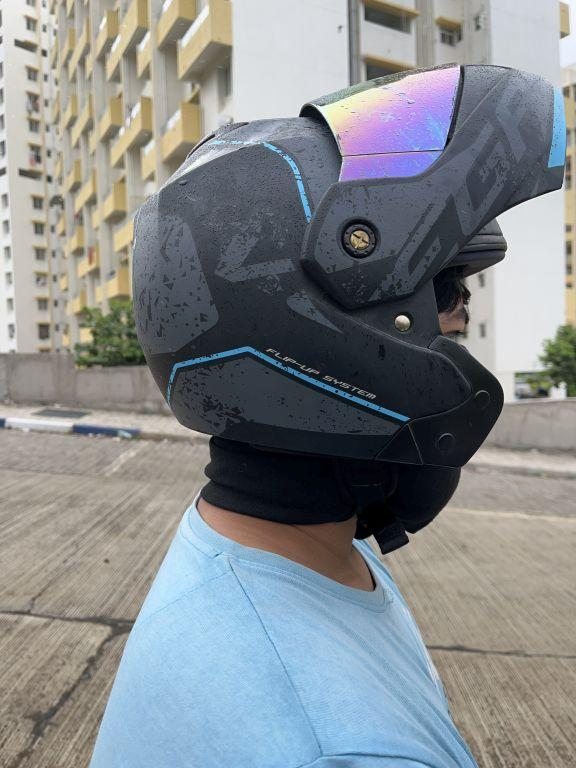helmet: (120, 54, 576, 510)
